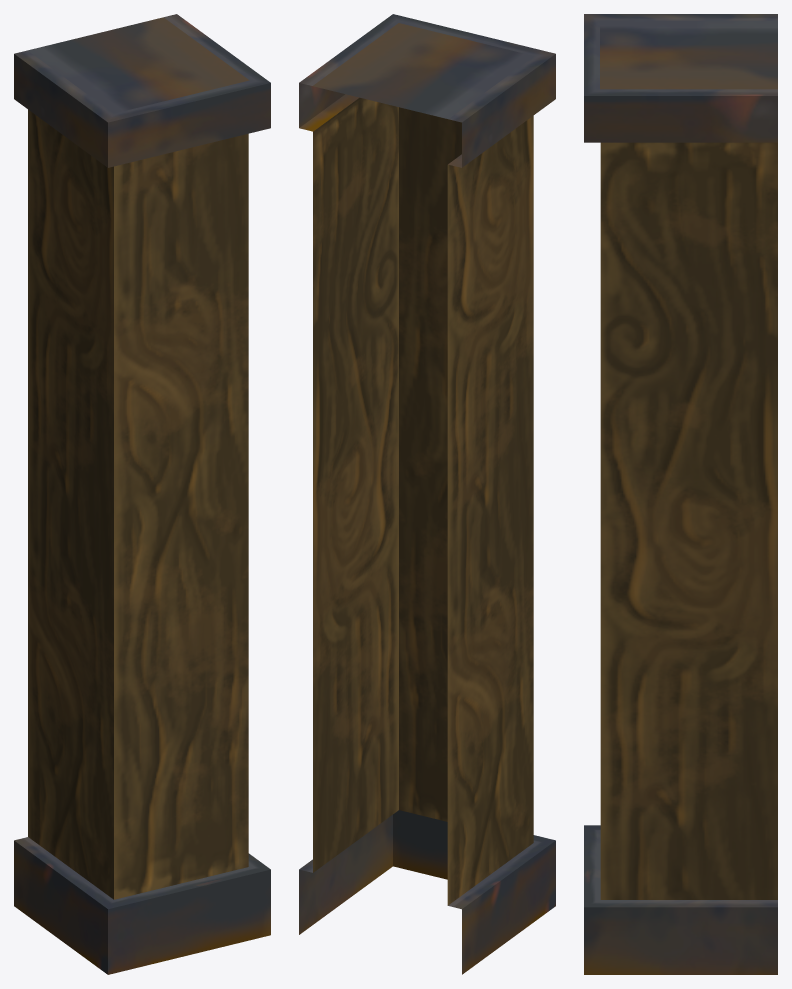
File: WoodP_V2.fbx
3 renders of one model, left to right at view 1: azimuth 30°, elevation 25°; view 2: azimuth 150°, elevation 25°; view 3: azimuth 270°, elevation 25°, orthographic. The views are drawn at different scales.
Parts seen in each view (by area): view 1: WoodP_V2; view 2: WoodP_V2; view 3: WoodP_V2.
Part boxes in pixels (x1,y1,x2,y2): WoodP_V2: (14, 14, 270, 974); WoodP_V2: (299, 14, 555, 974); WoodP_V2: (584, 14, 777, 974).
Size of the model in its own units: 1000 by 5000 by 1000.
